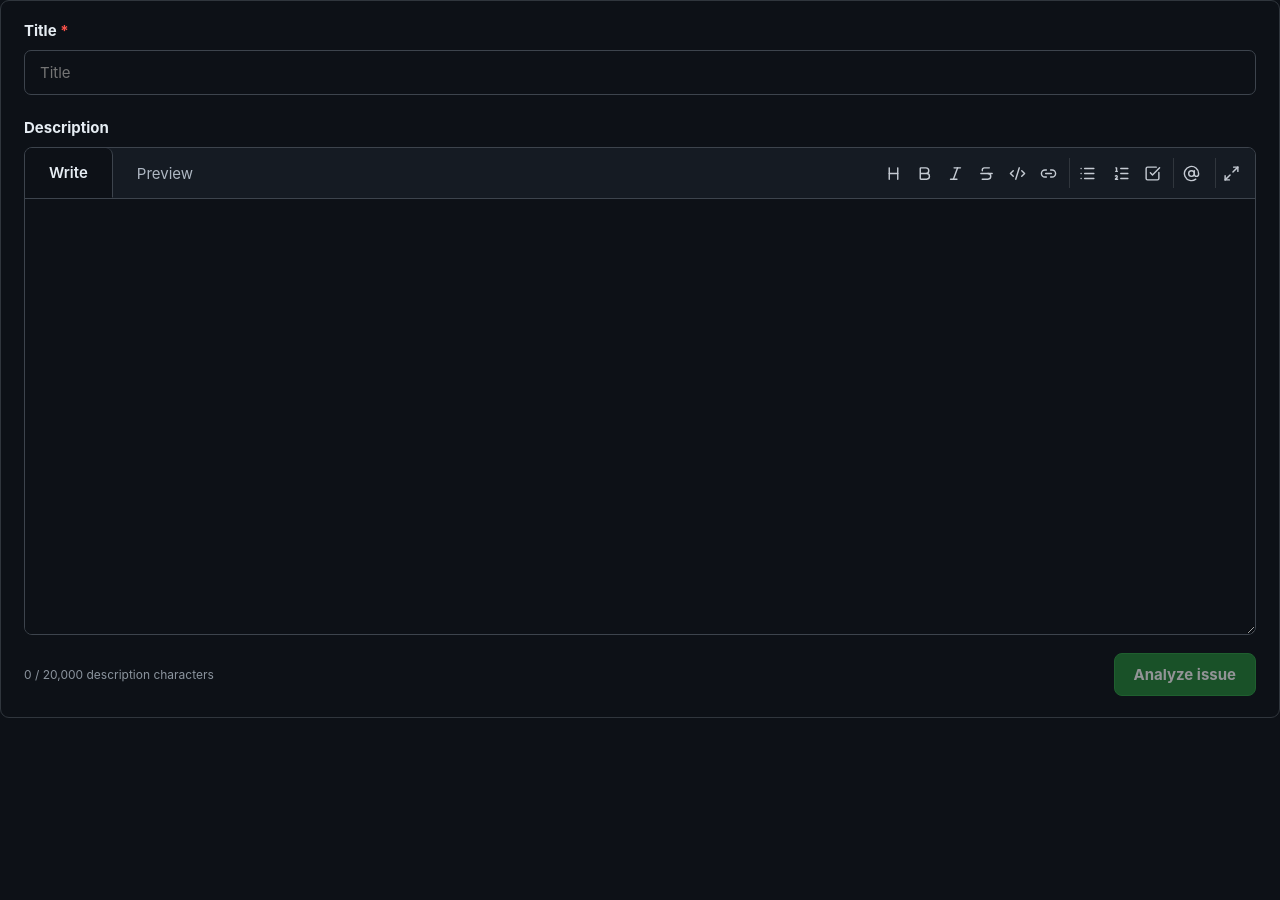
IssueEditor › disables demo analysis when title is empty
Check: the button "Analyze issue" is disabled, box [1114, 653, 1256, 696]
Step 1. Type "App crashes" into the field labelled "Title *" → (640, 72), box [24, 50, 1256, 95]
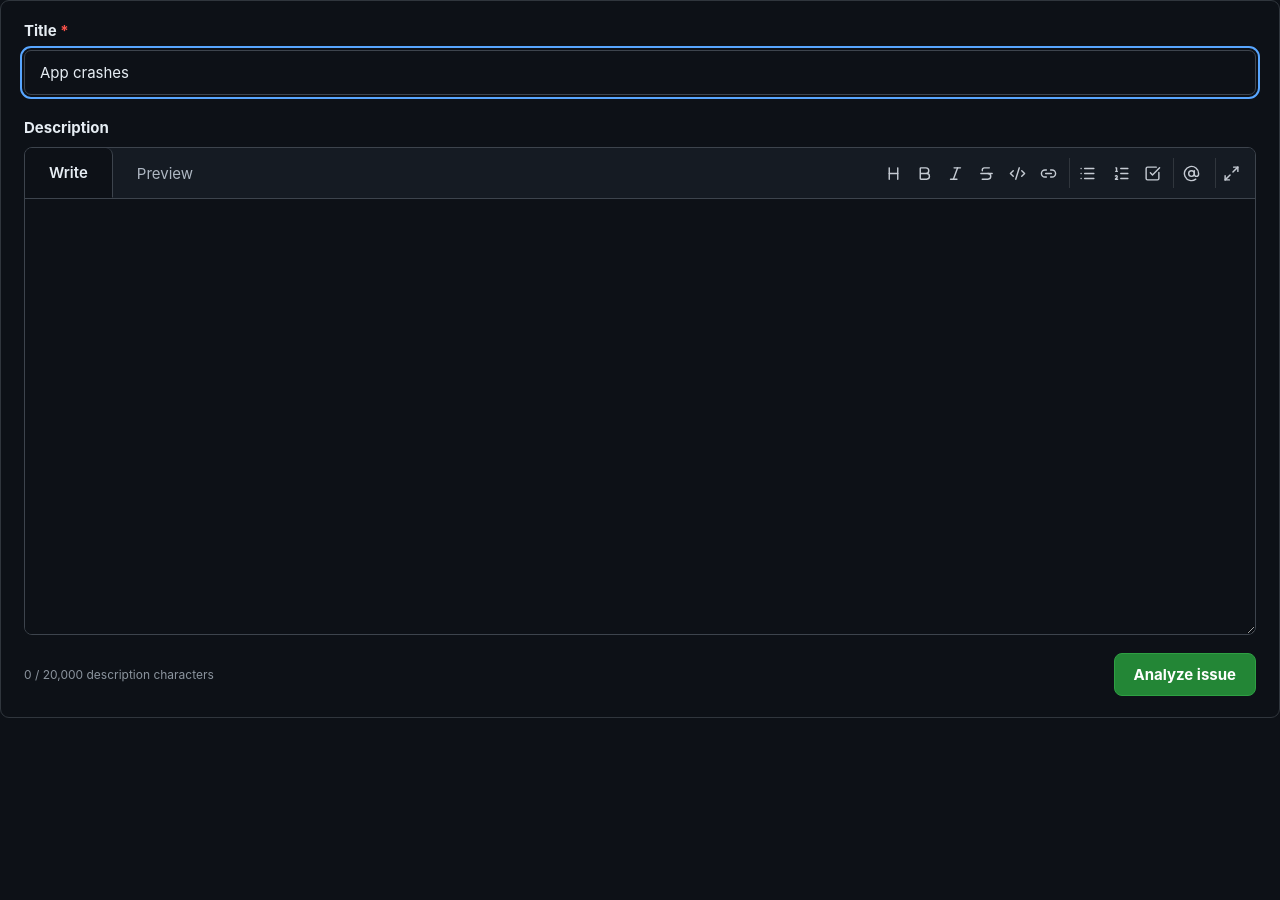
Check: the button "Analyze issue" is enabled, box [1114, 653, 1256, 696]
